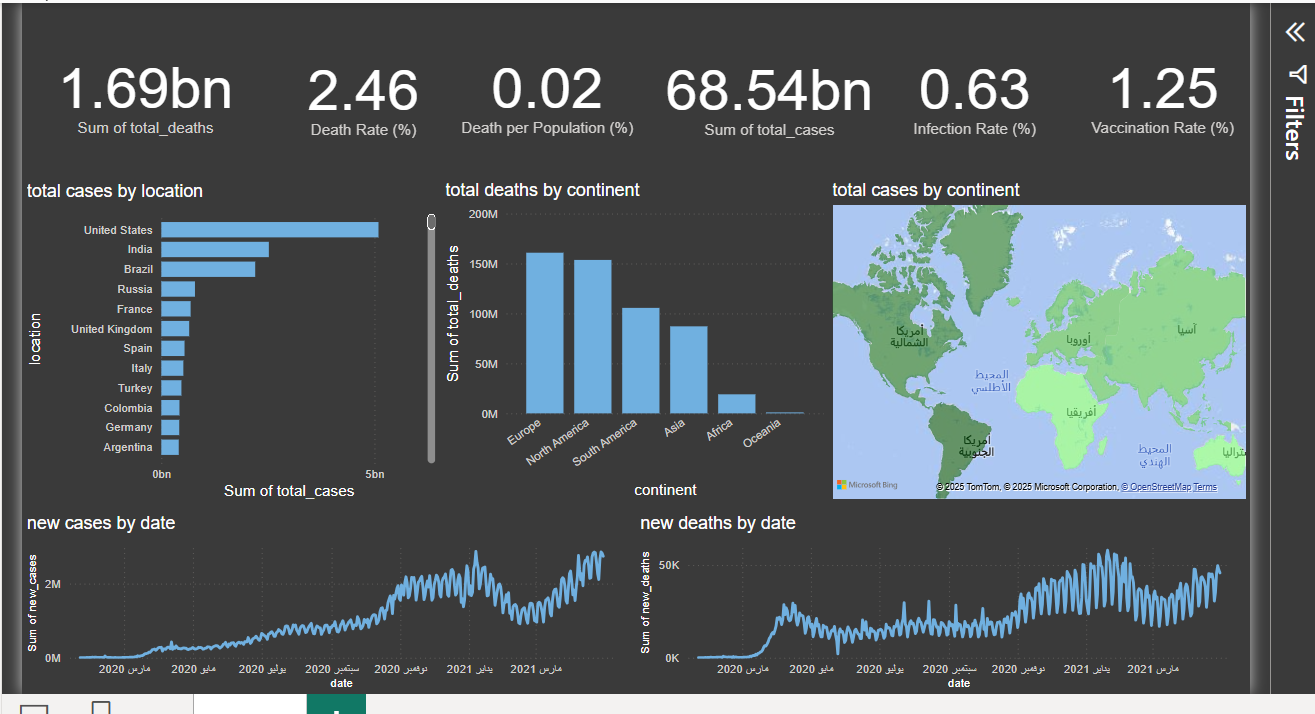

What the dashboard file says about the page in this screenshot:
{"tool":"powerbi","page":{"name":"Page 1","canvas":[1280,720],"ordinal":0},"visuals":[{"type":"clusteredColumnChart","title":"total deaths by continent","fields":{"Category":["CovidDeaths.continent"],"Y":["Sum(CovidDeaths.total_deaths)"]},"box":[435.8,184.5,404,337.2],"z":0},{"type":"barChart","title":"total cases by location","fields":{"Category":["Covidvaccinations.location"],"Y":["Sum(CovidDeaths.total_cases)"]},"box":[0,186.1,435.8,335.6],"z":1000},{"type":"filledMap","title":"total cases by continent","fields":{"Category":["CovidDeaths.continent"]},"box":[839.8,184.5,440.6,337.2],"z":2000},{"type":"card","fields":{"Values":["Sum(CovidDeaths.total_deaths)"]},"box":[0,0,257.7,184.5],"z":3000},{"type":"card","fields":{"Values":["Sum(CovidDeaths.total_cases)"]},"box":[658.5,3.2,241.8,182.9],"z":4000},{"type":"card","fields":{"Values":["CovidDeaths.Death per Population (%)"]},"box":[435.8,0,222.7,184.5],"z":5000},{"type":"card","fields":{"Values":["CovidDeaths.Death Rate (%)"]},"box":[257.7,3.2,195.6,182.9],"z":6000},{"type":"card","fields":{"Values":["CovidDeaths.Infection Rate (%)"]},"box":[887.6,1.6,210,184.5],"z":7000},{"type":"card","fields":{"Values":["Covidvaccinations.Vaccination Rate (%)"]},"box":[1097.5,0,182.9,184.5],"z":8000},{"type":"lineChart","title":"new cases by date","fields":{"Category":["CovidDeaths.date"],"Y":["Sum(CovidDeaths.new_cases)"]},"box":[0,531.3,637.8,189.3],"z":8001},{"type":"lineChart","title":"new deaths by date","fields":{"Category":["CovidDeaths.date"],"Y":["Sum(CovidDeaths.new_deaths)"]},"box":[639.4,531.3,641,189.3],"z":8002}]}

Visuals, with their boxes on the page's 1280x720 design canvas (x1, y1, x2, y2). These are canvas units, not pixel positions in the 1315x714 screenshot, which may show the page scaled, cropped or inside an application window:
"total deaths by continent" clusteredColumnChart: 436/184/840/522
"total cases by location" barChart: 0/186/436/522
"total cases by continent" filledMap: 840/184/1280/522
card - Sum(CovidDeaths.total_deaths): 0/0/258/184
card - Sum(CovidDeaths.total_cases): 658/3/900/186
card - CovidDeaths.Death per Population (%): 436/0/658/184
card - CovidDeaths.Death Rate (%): 258/3/453/186
card - CovidDeaths.Infection Rate (%): 888/2/1098/186
card - Covidvaccinations.Vaccination Rate (%): 1098/0/1280/184
"new cases by date" lineChart: 0/531/638/721
"new deaths by date" lineChart: 639/531/1280/721
